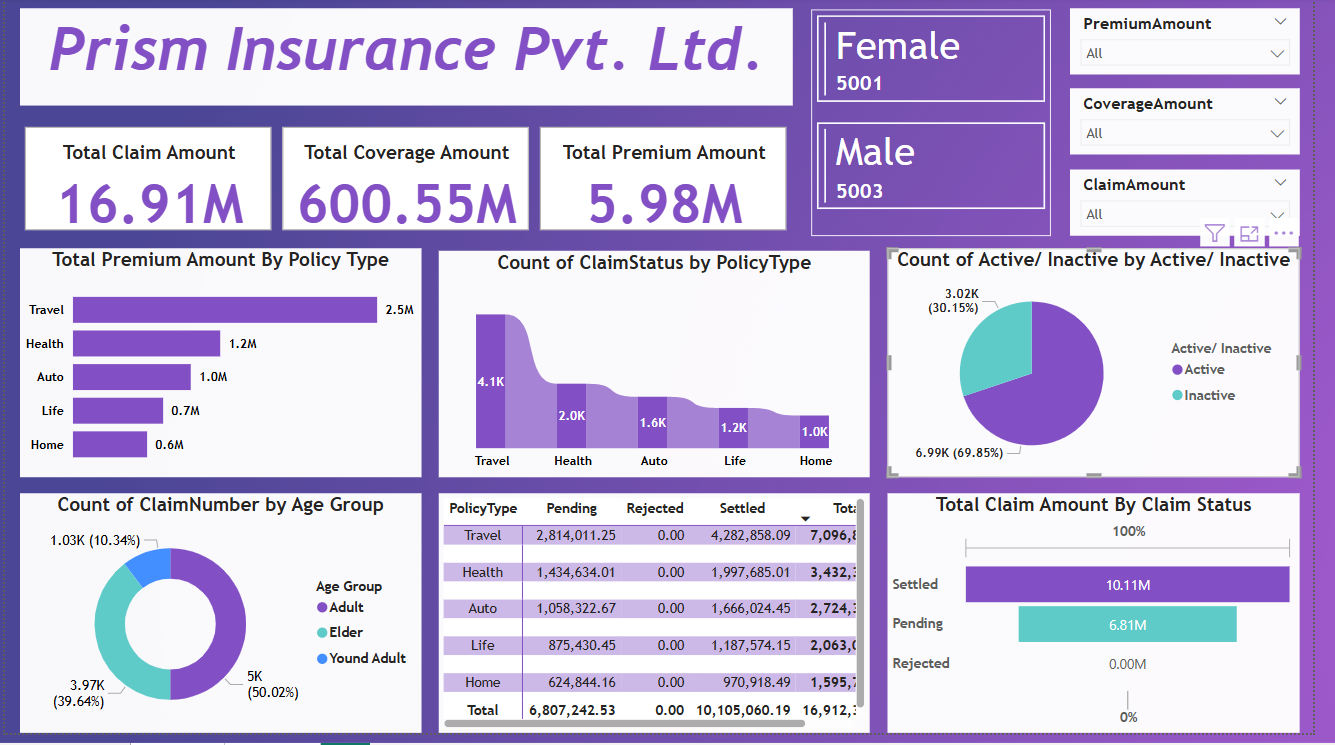

The page's visual inventory and layout, read from the dashboard file:
{"tool":"powerbi","page":{"name":"Page 1","canvas":[1280,720],"ordinal":0},"visuals":[{"type":"textbox","box":[14.7,11,755.7,95.4],"z":0},{"type":"multiRowCard","fields":{"Values":["Prism Insurance Pvt. Ltd..Gender","CountNonNull(Prism Insurance Pvt. Ltd..Gender)"]},"box":[788.7,12.2,234.8,221.3],"z":1000},{"type":"cardVisual","fields":{"Data":["Sum(Prism Insurance Pvt. Ltd..ClaimAmount)"]},"box":[14.7,122.3,251.9,111.3],"z":2000},{"type":"cardVisual","fields":{"Data":["Sum(Prism Insurance Pvt. Ltd..CoverageAmount)"]},"box":[266.6,122.3,251.9,111.3],"z":3000},{"type":"cardVisual","fields":{"Data":["Sum(Prism Insurance Pvt. Ltd..PremiumAmount)"]},"box":[518.5,122.3,251.9,111.3],"z":4000},{"type":"barChart","title":"Total Premium Amount By Policy Type","fields":{"Y":["Sum(Prism Insurance Pvt. Ltd..PremiumAmount)"],"Category":["Prism Insurance Pvt. Ltd..PolicyType"]},"box":[14.7,245.8,392.5,223.8],"z":5000},{"type":"ribbonChart","fields":{"Category":["Prism Insurance Pvt. Ltd..PolicyType"],"Y":["CountNonNull(Prism Insurance Pvt. Ltd..ClaimStatus)"]},"box":[424.3,248.2,421.9,221.3],"z":6000},{"type":"donutChart","fields":{"Category":["Prism Insurance Pvt. Ltd..Age Group"],"Y":["CountNonNull(Prism Insurance Pvt. Ltd..ClaimNumber)"]},"box":[14.7,485.5,392.5,234.8],"z":7000},{"type":"pivotTable","fields":{"Rows":["Prism Insurance Pvt. Ltd..PolicyType"],"Columns":["Prism Insurance Pvt. Ltd..ClaimStatus"],"Values":["Sum(Prism Insurance Pvt. Ltd..ClaimAmount)"]},"box":[424.3,485.5,421.9,234.8],"z":8000},{"type":"pieChart","fields":{"Category":["Prism Insurance Pvt. Ltd..Active/ Inactive"],"Y":["CountNonNull(Prism Insurance Pvt. Ltd..Active/ Inactive)"]},"box":[863.3,245.8,403.5,223.8],"z":9000},{"type":"funnel","title":"Total Claim Amount By Claim Status","fields":{"Category":["Prism Insurance Pvt. Ltd..ClaimStatus"],"Y":["Sum(Prism Insurance Pvt. Ltd..ClaimAmount)"]},"box":[863.3,485.5,403.5,234.8],"z":10000},{"type":"slicer","fields":{"Values":["Prism Insurance Pvt. Ltd..PremiumAmount"]},"box":[1041.9,11,225,64.8],"z":11000},{"type":"slicer","fields":{"Values":["Prism Insurance Pvt. Ltd..CoverageAmount"]},"box":[1041.9,89.3,225,64.8],"z":12000},{"type":"slicer","fields":{"Values":["Prism Insurance Pvt. Ltd..ClaimAmount"]},"box":[1041.9,168.8,225,64.8],"z":13000}]}

Visuals, with their boxes in screenshot pixels (x1, y1, x2, y2), scaled from the page's 1280x720 canvas onto the 1335x745 screenshot:
textbox: (15, 11, 804, 110)
multiRowCard - Prism Insurance Pvt. Ltd..Gender x CountNonNull(Prism Insurance Pvt. Ltd..Gender): (823, 13, 1067, 242)
cardVisual - Sum(Prism Insurance Pvt. Ltd..ClaimAmount): (15, 127, 278, 242)
cardVisual - Sum(Prism Insurance Pvt. Ltd..CoverageAmount): (278, 127, 541, 242)
cardVisual - Sum(Prism Insurance Pvt. Ltd..PremiumAmount): (541, 127, 804, 242)
"Total Premium Amount By Policy Type" barChart: (15, 254, 425, 486)
ribbonChart - Prism Insurance Pvt. Ltd..PolicyType x CountNonNull(Prism Insurance Pvt. Ltd..ClaimStatus): (443, 257, 883, 486)
donutChart - Prism Insurance Pvt. Ltd..Age Group x CountNonNull(Prism Insurance Pvt. Ltd..ClaimNumber): (15, 502, 425, 744)
pivotTable - Prism Insurance Pvt. Ltd..PolicyType x Prism Insurance Pvt. Ltd..ClaimStatus: (443, 502, 883, 744)
pieChart - Prism Insurance Pvt. Ltd..Active/ Inactive x CountNonNull(Prism Insurance Pvt. Ltd..Active/ Inactive): (900, 254, 1321, 486)
"Total Claim Amount By Claim Status" funnel: (900, 502, 1321, 744)
slicer - Prism Insurance Pvt. Ltd..PremiumAmount: (1087, 11, 1321, 78)
slicer - Prism Insurance Pvt. Ltd..CoverageAmount: (1087, 92, 1321, 159)
slicer - Prism Insurance Pvt. Ltd..ClaimAmount: (1087, 175, 1321, 242)
